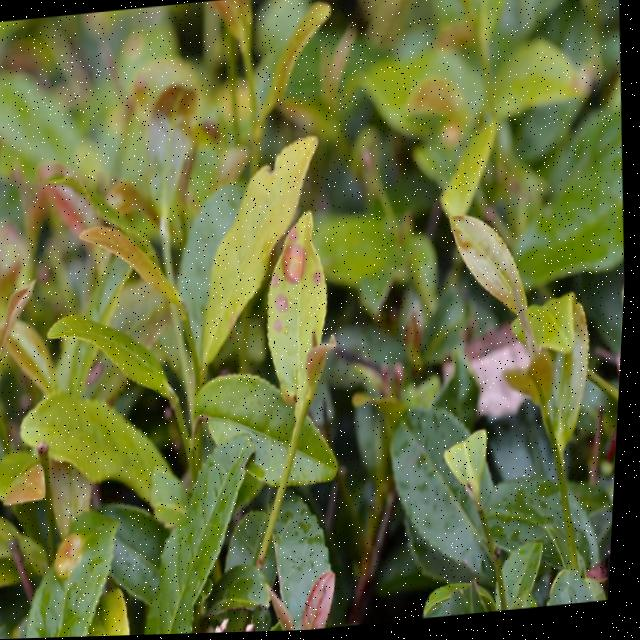Tea cake: (282, 243, 312, 288)
